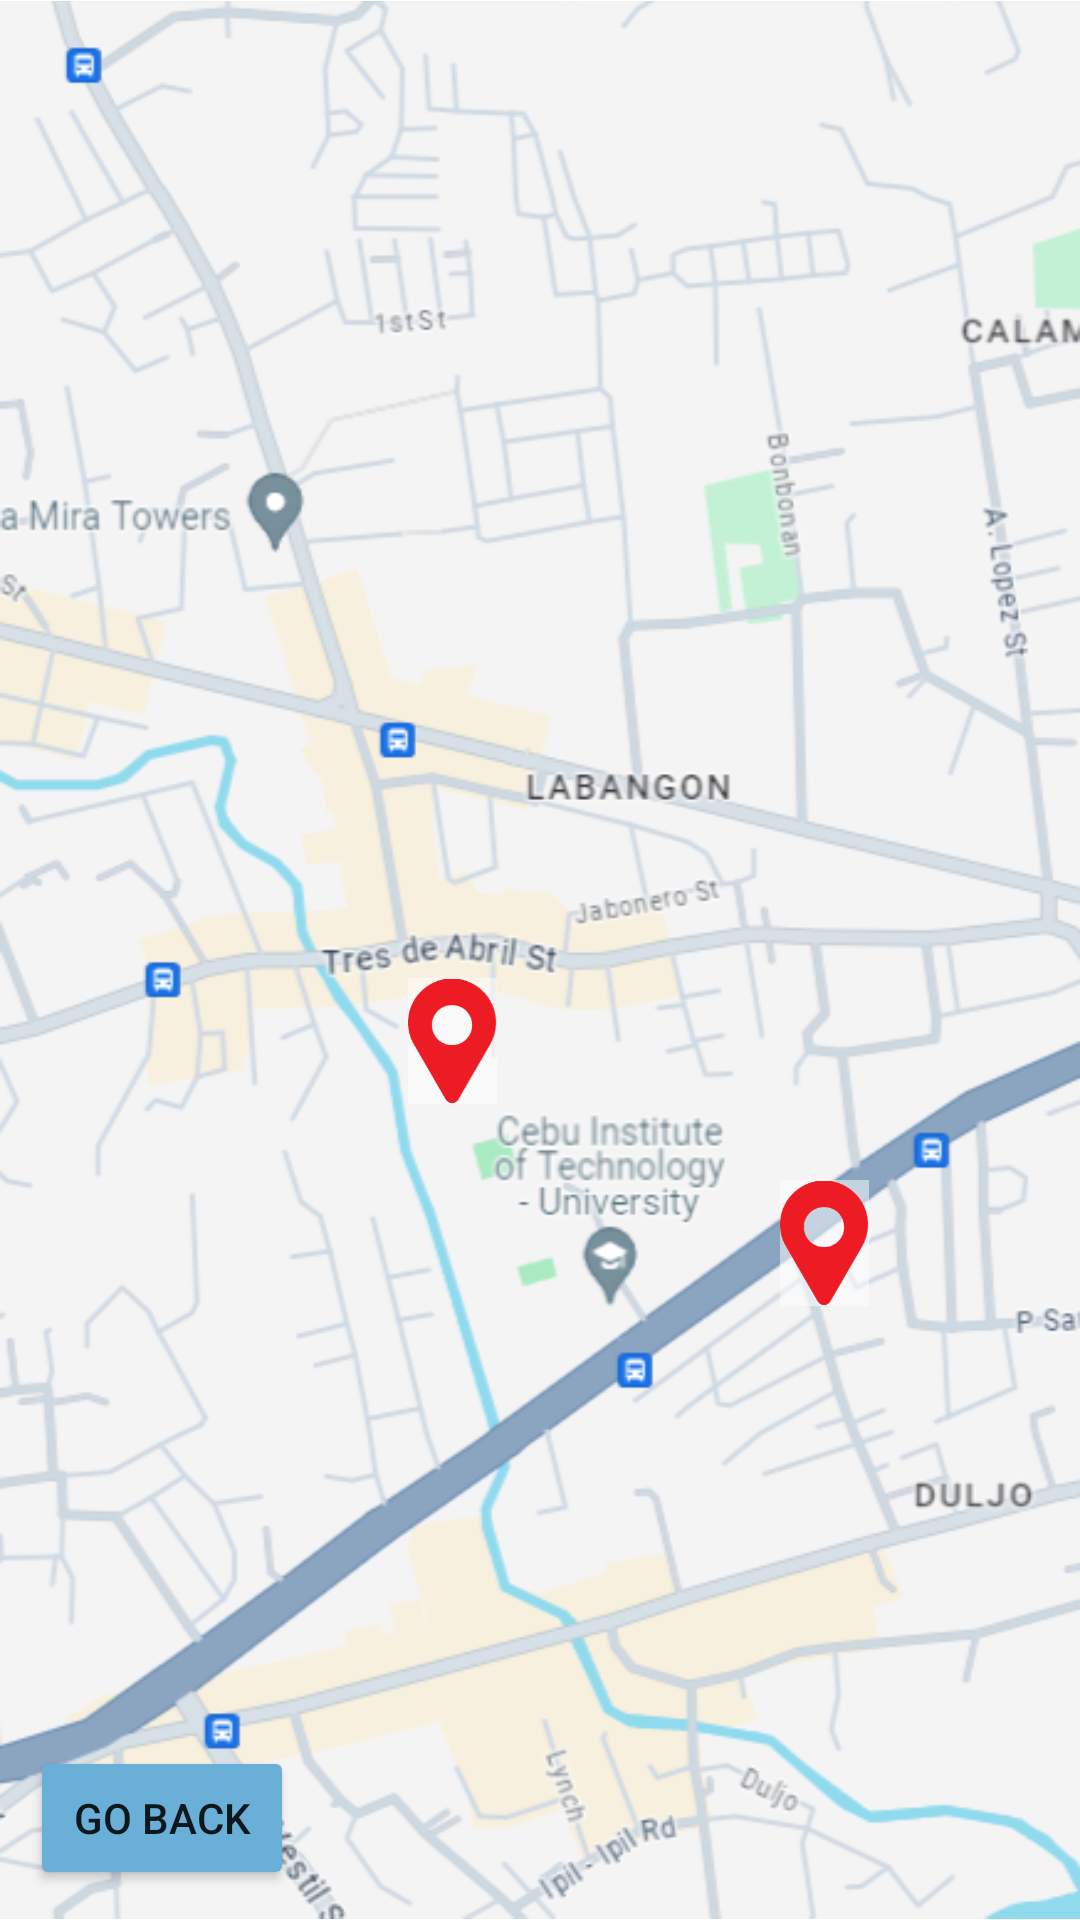

Where to tap for icons on this 1080px x 1920px app screen, as [x,y]:
pin: [452,1041], [824,1242]
